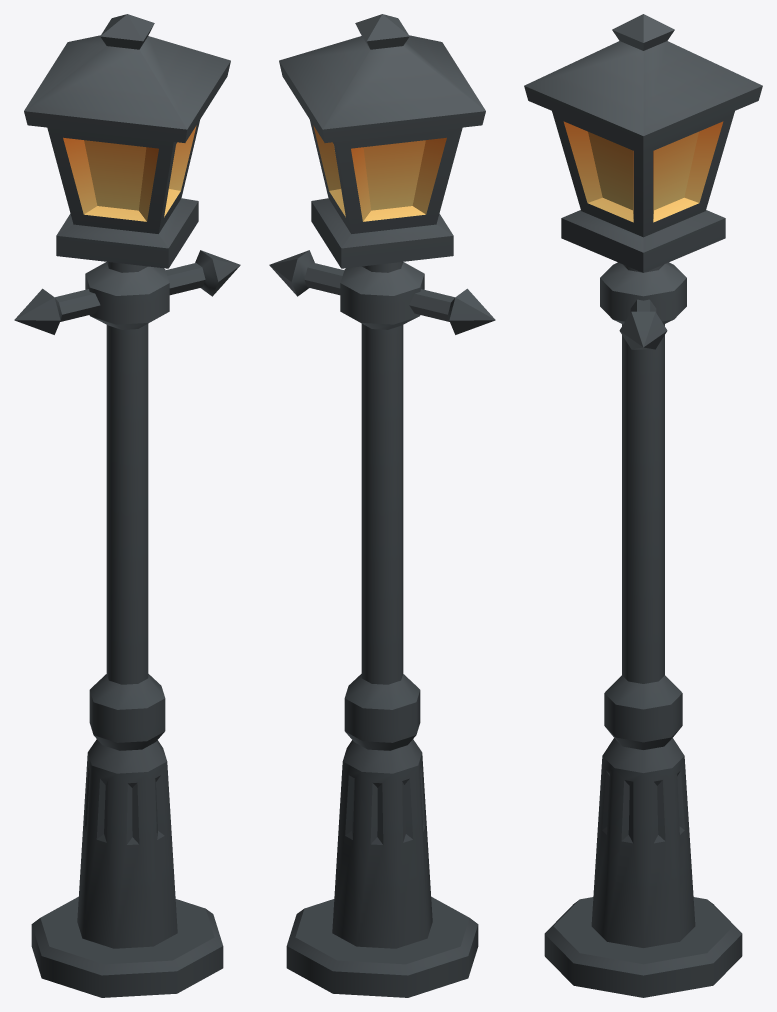
Rendered from lantern.fbx.
3 renders of one model, left to right at view 1: azimuth 30°, elevation 25°; view 2: azimuth 150°, elevation 25°; view 3: azimuth 270°, elevation 25°, orthographic.
Parts seen in each view (by area): view 1: lantern; view 2: lantern; view 3: lantern.
Part boxes in pixels (x1=…): lantern: x1=14, y1=14, x2=240, y2=997; lantern: x1=269, y1=14, x2=495, y2=997; lantern: x1=524, y1=14, x2=762, y2=997.
Bounding box in the file's own units: 99.12 × 394 × 90.51.
